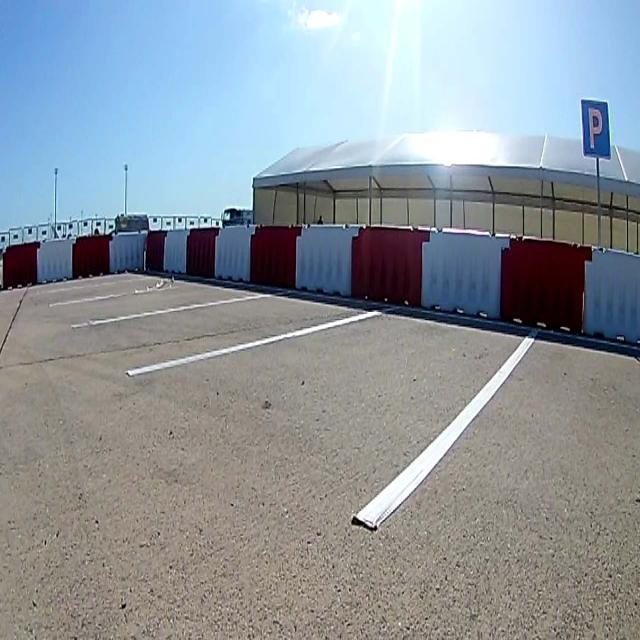park: (579, 98, 611, 158)
